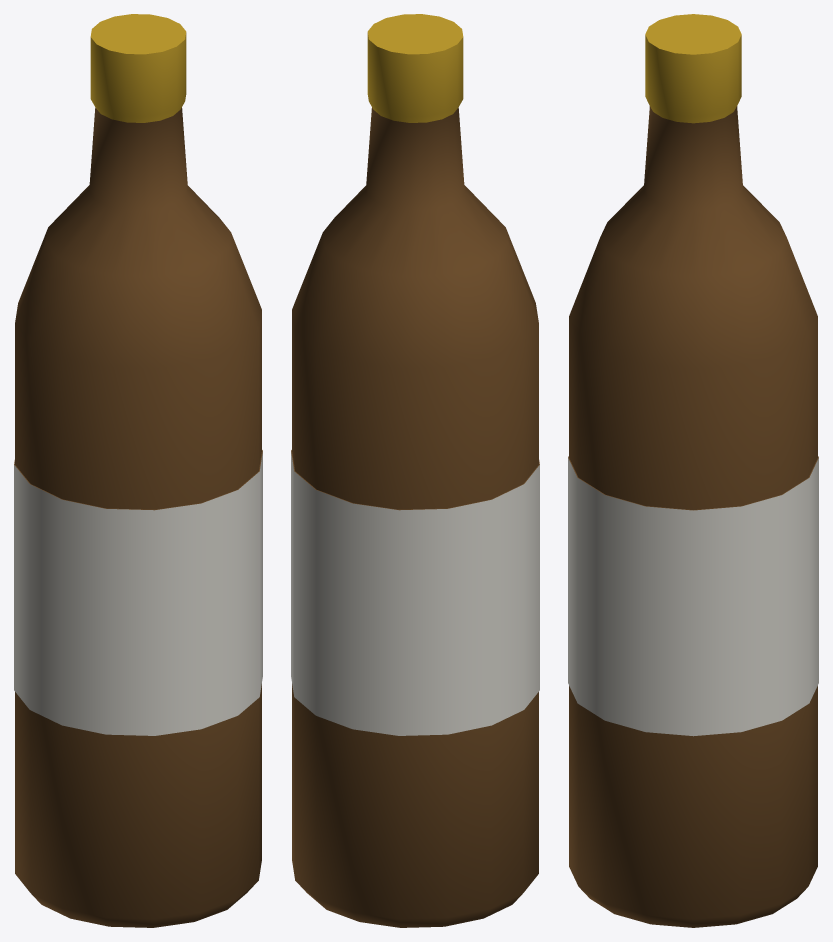
The model's file is char_hand_bottle.glb.
The picture shows the model from 3 angles, left to right: view 1: azimuth 30°, elevation 25°; view 2: azimuth 150°, elevation 25°; view 3: azimuth 270°, elevation 25°; orthographic projection.
Visible parts, largest first — view 1: Visual; view 2: Visual; view 3: Visual.
Boxes of the visible parts, box(x1,y1,x2,y2) form: Visual: box(14, 14, 262, 927); Visual: box(291, 14, 539, 927); Visual: box(568, 14, 818, 927).
Bounding box in the file's own units: 0.0806 × 0.3 × 0.0806.
